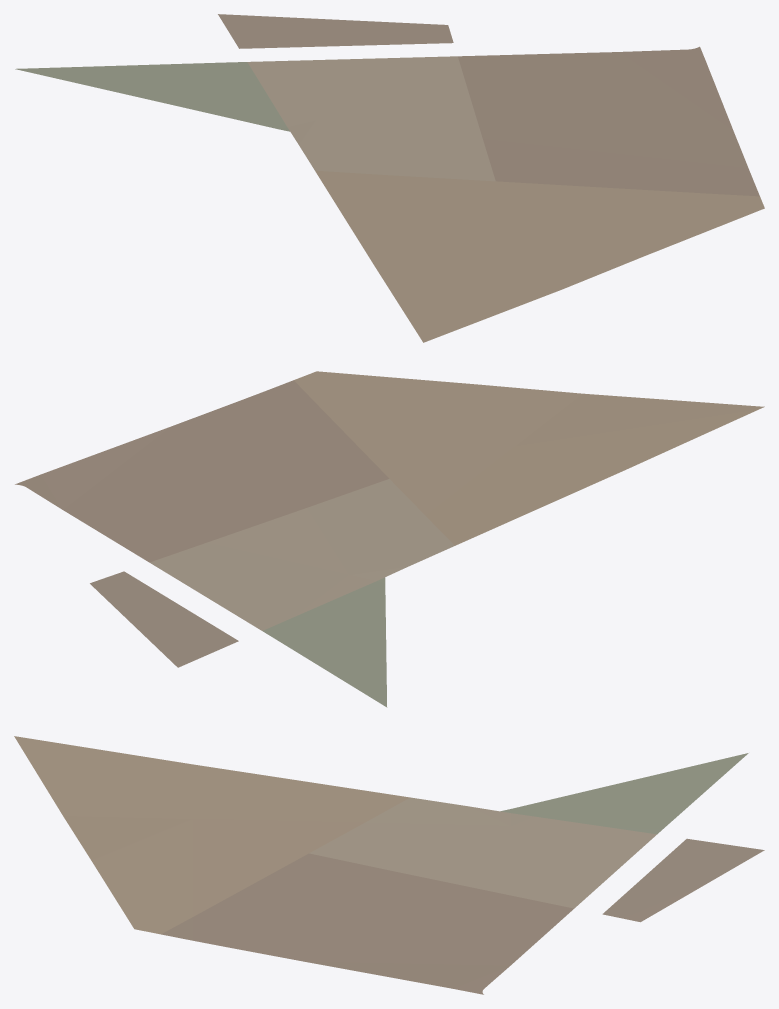
Rendered from farm_25_16_soil.glb.
3 views of the same model, one above another, from view 1: azimuth 30°, elevation 25°; view 2: azimuth 150°, elevation 25°; view 3: azimuth 270°, elevation 25° (orthographic). The views are drawn at different scales.
Visible parts, largest first — view 1: geometry_0; view 2: geometry_0; view 3: geometry_0.
Part boxes in pixels (x1,y1,x2,y2): geometry_0: (15,14,764,342); geometry_0: (15,371,764,707); geometry_0: (14,736,764,994).
Bounding box in the file's own units: 143 × 6.19 × 189.
